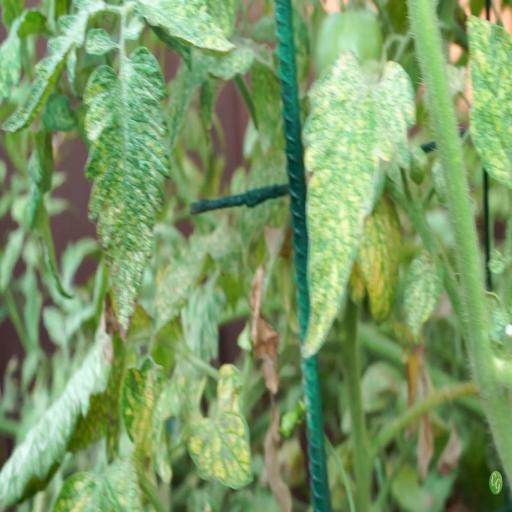disease_tomato: (298, 50, 418, 360), (80, 42, 170, 344), (186, 360, 256, 498), (464, 12, 512, 190), (356, 184, 402, 326), (117, 346, 169, 460), (136, 0, 238, 58), (406, 246, 444, 346)
